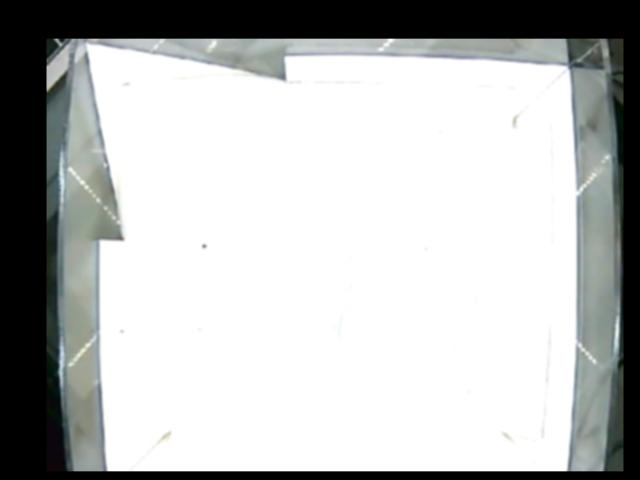Bottle: (289, 245, 476, 355)
